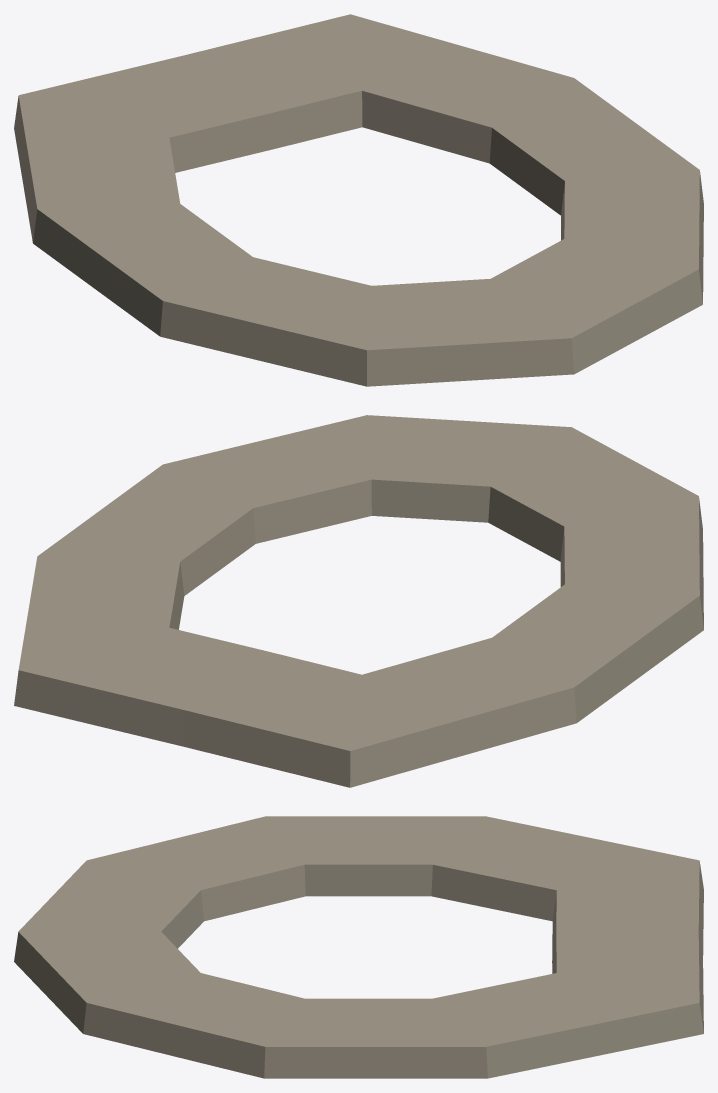
File: SM_Prop_Toilet_01_Seat.fbx
3 views of the same model, one above another, from view 1: azimuth 30°, elevation 25°; view 2: azimuth 150°, elevation 25°; view 3: azimuth 270°, elevation 25° (orthographic). The views are drawn at different scales.
Parts seen in each view (by area): view 1: SM_Prop_Toilet_01_Seat; view 2: SM_Prop_Toilet_01_Seat; view 3: SM_Prop_Toilet_01_Seat.
Part boxes in pixels (<box>): SM_Prop_Toilet_01_Seat: <box>14,14,703,386</box>; SM_Prop_Toilet_01_Seat: <box>14,415,703,787</box>; SM_Prop_Toilet_01_Seat: <box>14,816,703,1078</box>.
Size of the model in its own units: 43.61 by 2.64 by 54.48.
